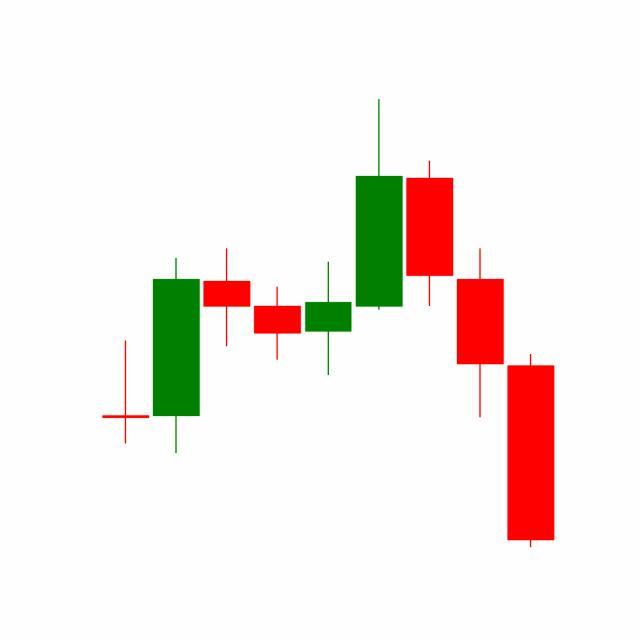Hikkake Pattern: (252, 99, 506, 422)
